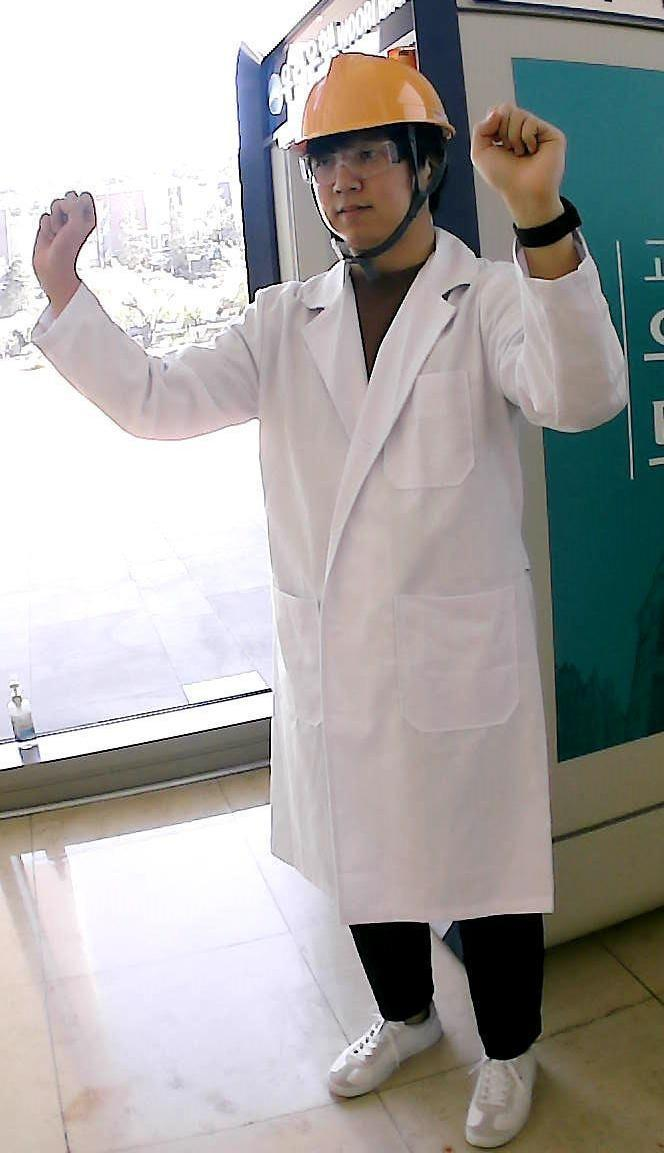lab_coat: (273, 283, 520, 896)
